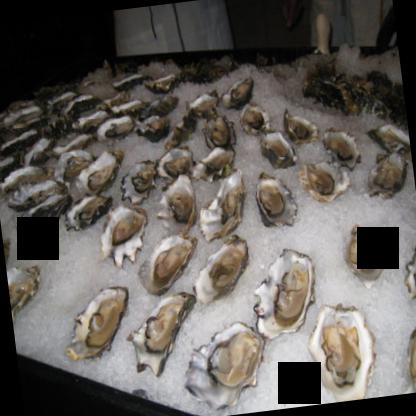oyster: (186, 320, 272, 414), (307, 299, 376, 403), (60, 277, 136, 365), (124, 288, 200, 376), (182, 225, 251, 306), (252, 255, 316, 341), (336, 216, 390, 289), (251, 166, 299, 238), (196, 174, 248, 237), (102, 202, 150, 267), (66, 144, 124, 196), (5, 258, 51, 316), (162, 175, 204, 237), (187, 140, 239, 182), (258, 124, 298, 174), (398, 240, 415, 322), (401, 324, 415, 392)
